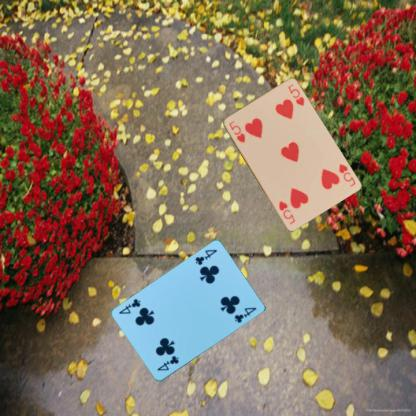4c: (154, 353, 180, 372), (192, 247, 218, 266)
5h: (226, 118, 246, 145), (336, 161, 356, 188)
